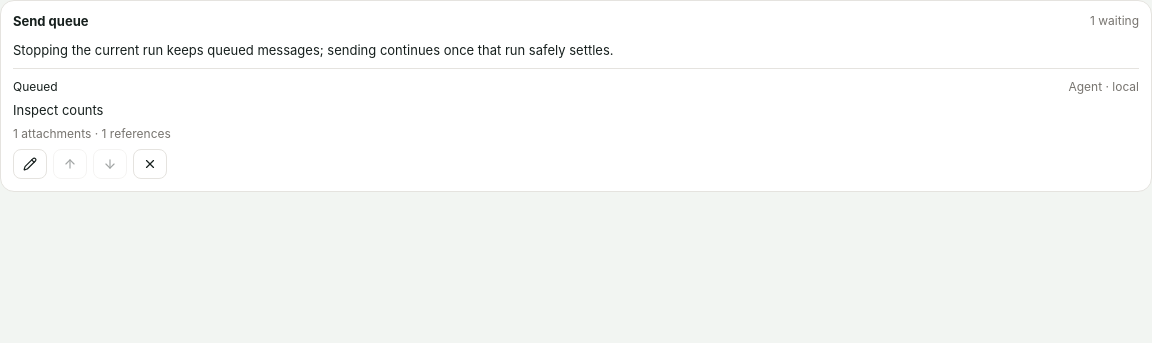
Scenario: durable composer queue panel › retains a rejected draft through close/reopen and never shows raw host errors
Click the button named "Edit queued message" at (30, 164), box [13,149,47,179]
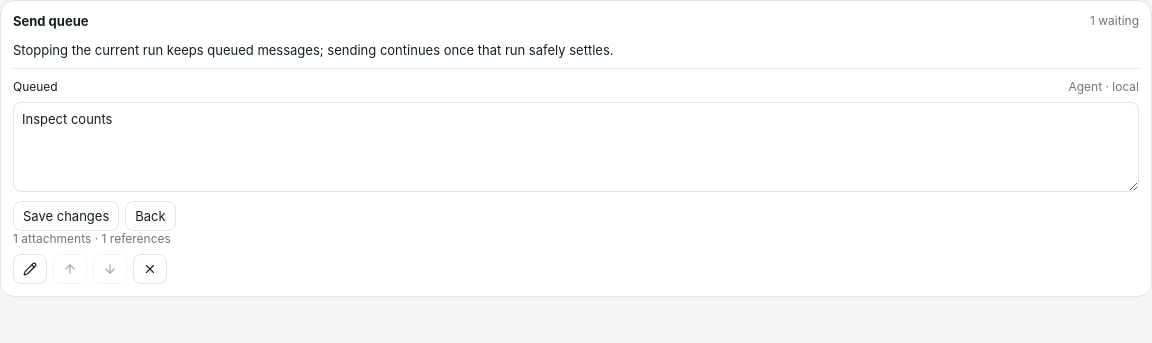
Replace the text in the text box with "retained correction" at (576, 147), box [13,102,1139,192]
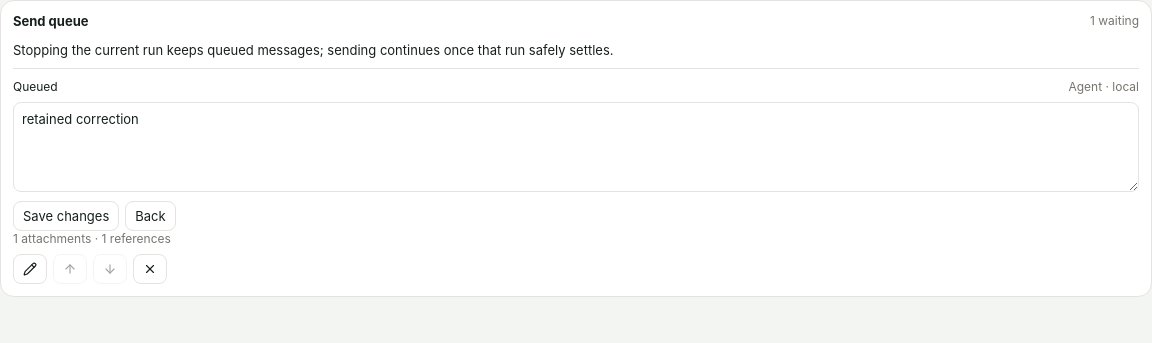
Click the button "Save changes" at (66, 216), box [13,201,119,231]
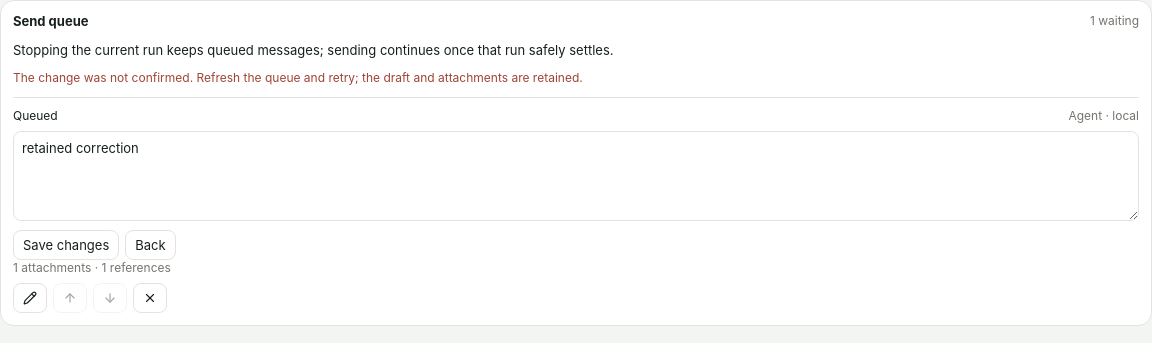
Now the message is shown, box [13,70,583,85]
Press Escape
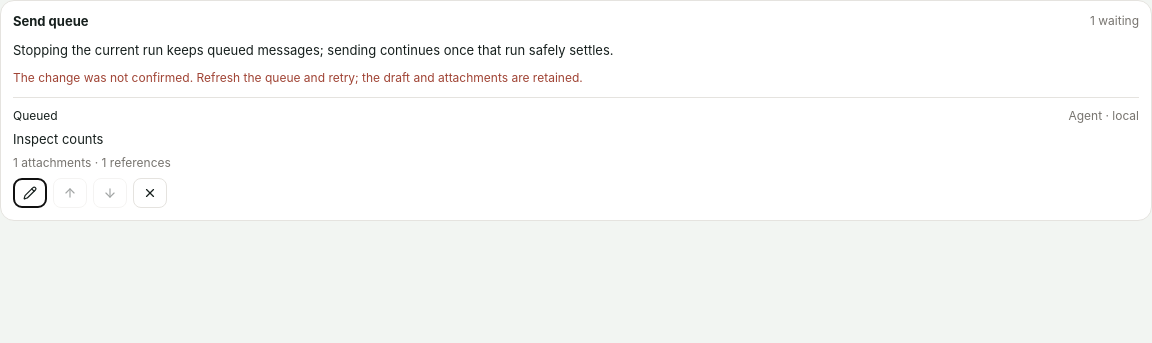
Click the button named "Edit queued message" at (30, 193), box [13,178,47,208]
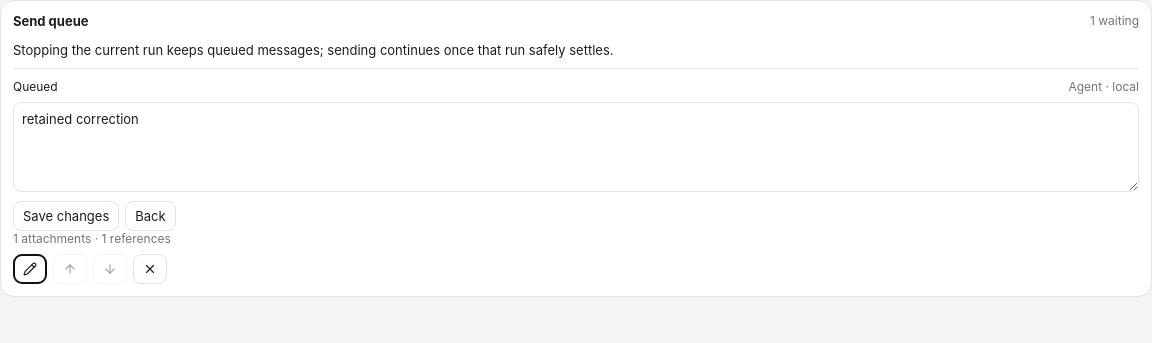
Now the text box holds "retained correction", box [13,102,1139,192]
